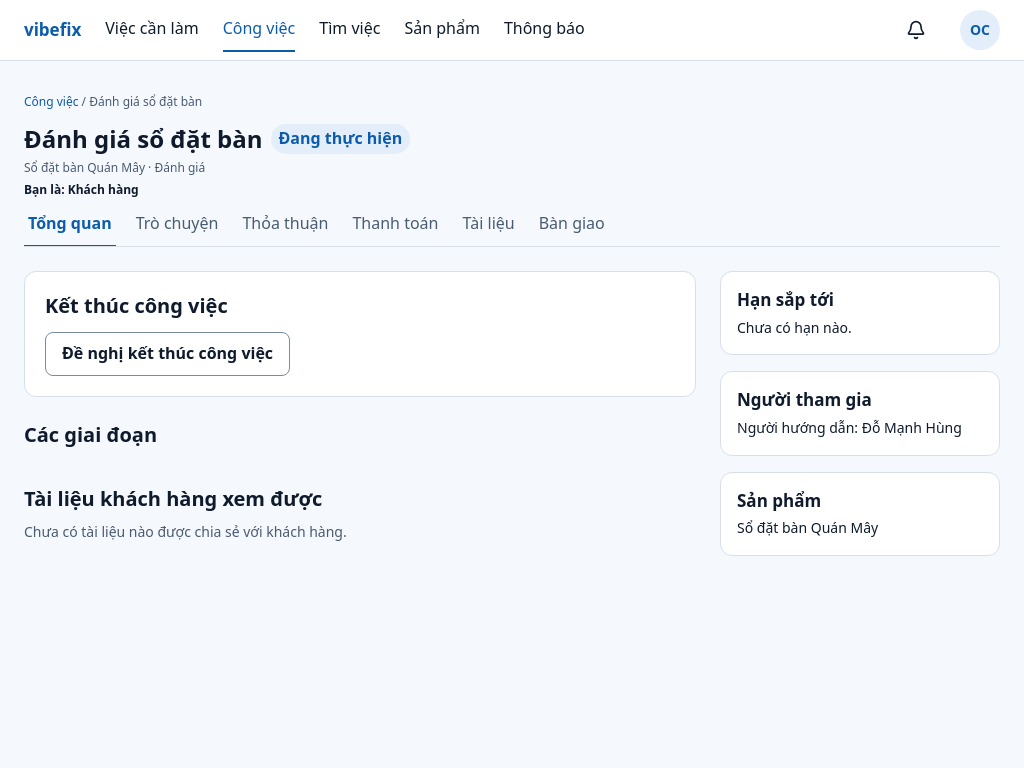
Test: JOB-1 closure section (FR-37, FR-67, UX-DR55) › says why a proposal is refused while a Milestone is held
Click the button "Đề nghị kết thúc công việc" at (168, 354), box [45,332,290,376]
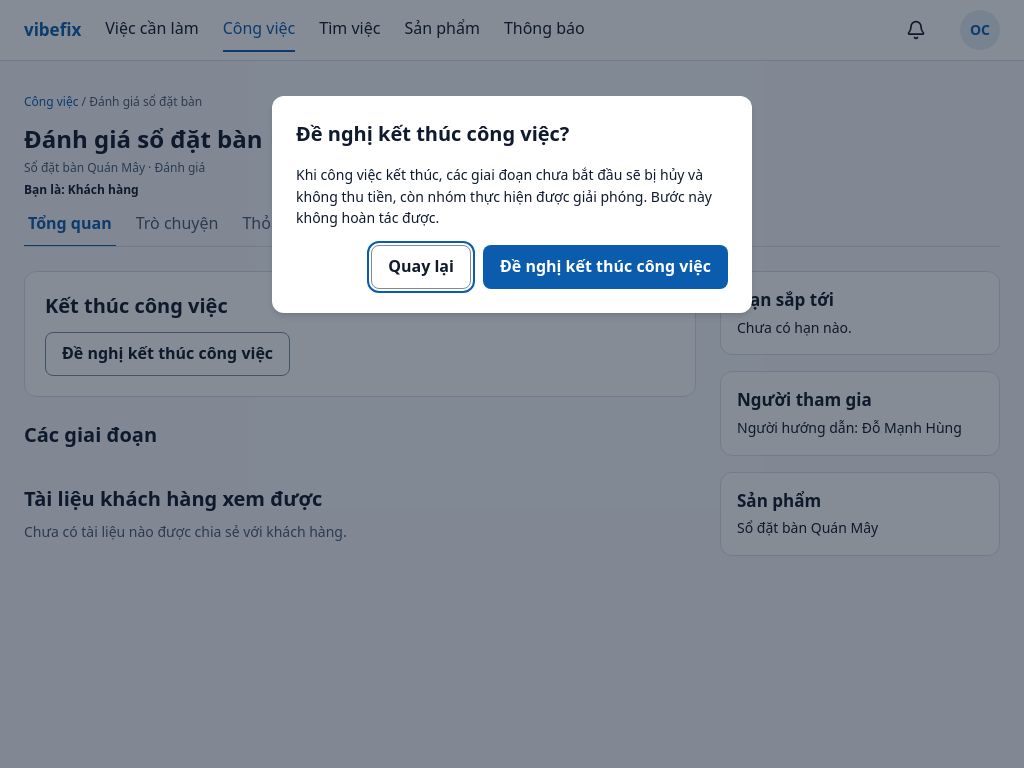
Click the button "Đề nghị kết thúc công việc" at (605, 267), box [483,245,728,289]
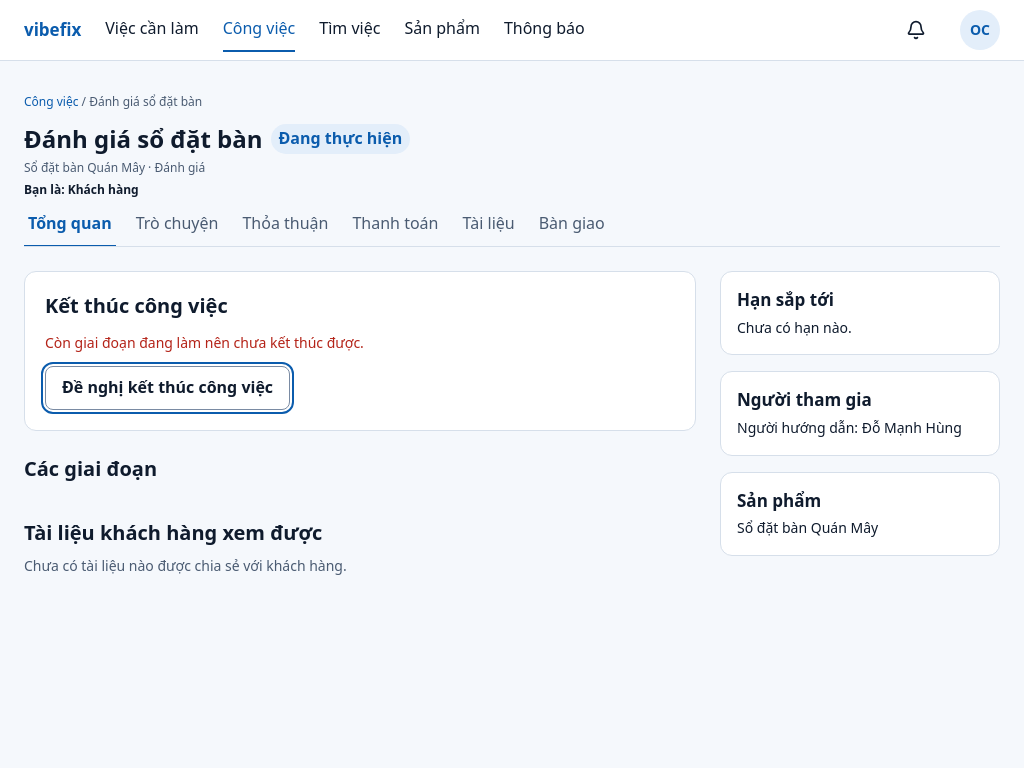
expect the message reads "Còn giai đoạn đang làm nên chưa kết thúc được.": met, box [45,333,364,352]
